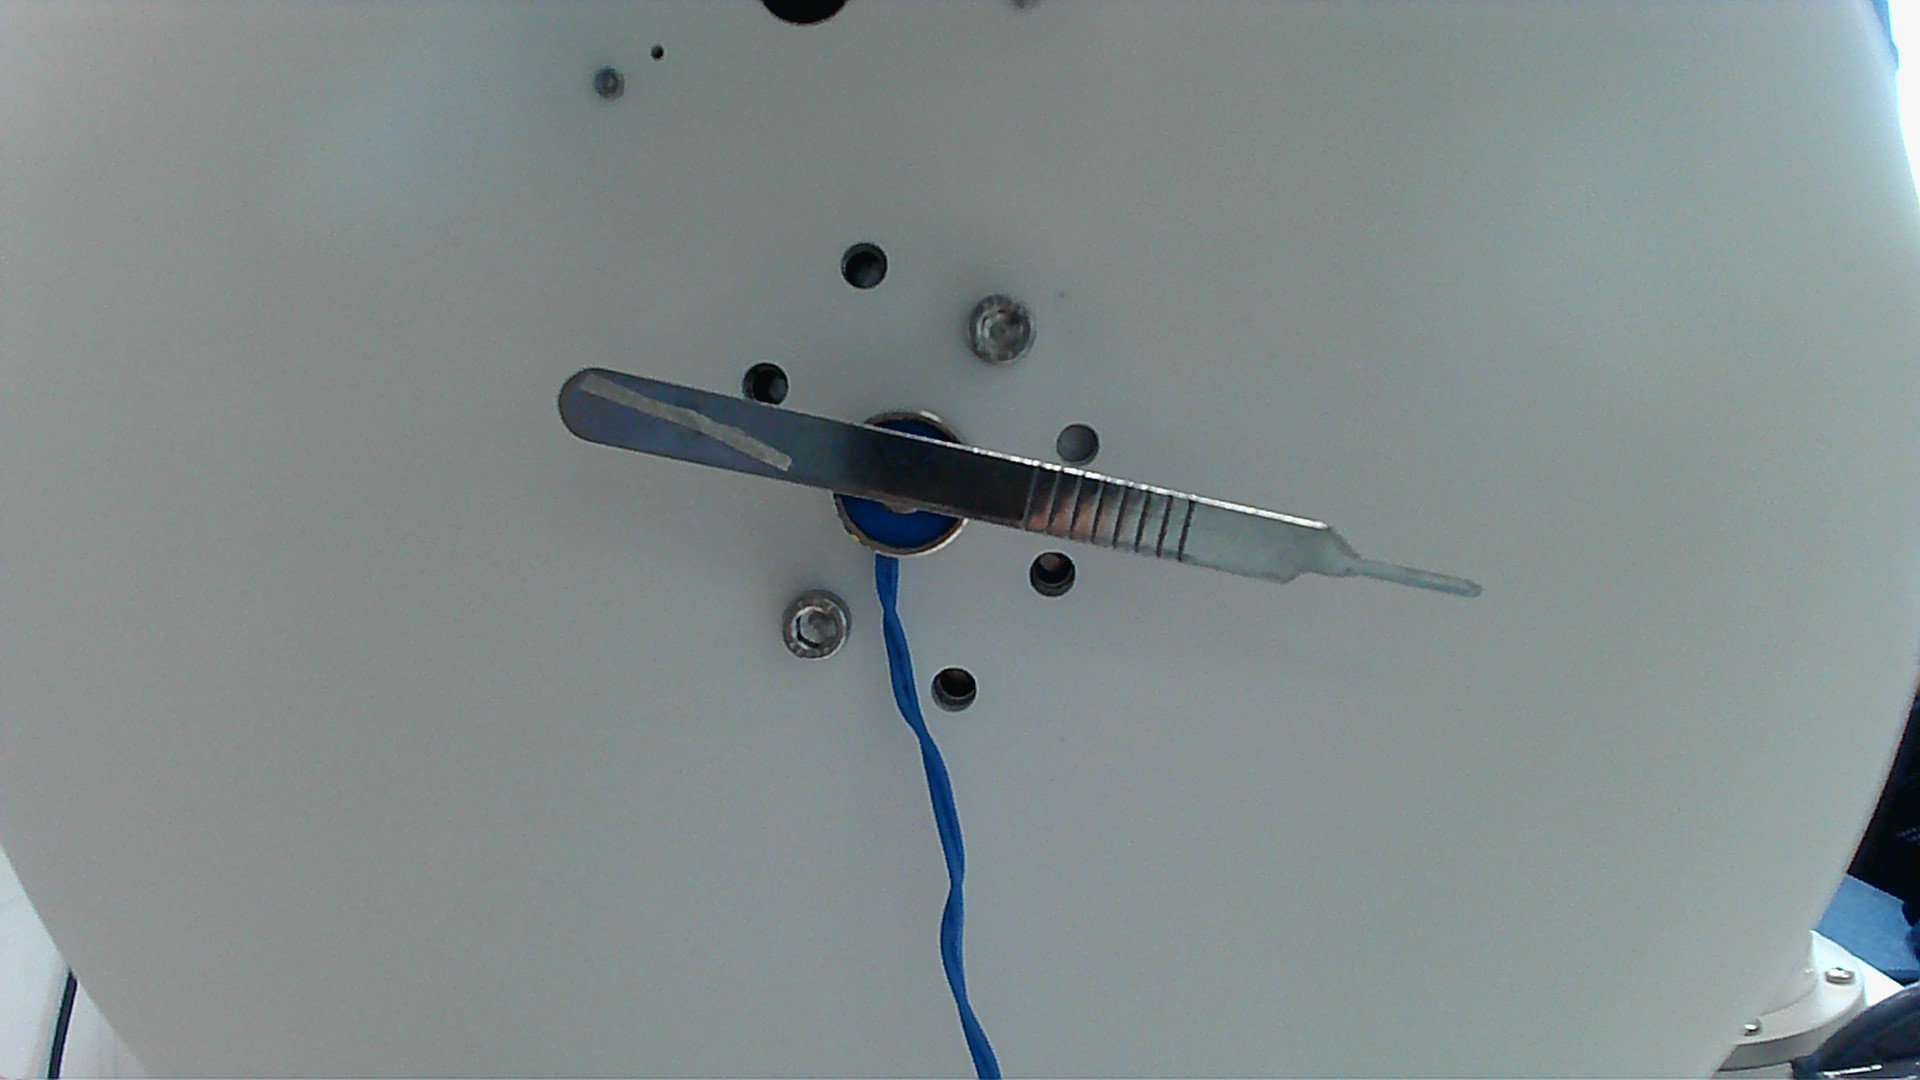Scratches: (572, 369, 798, 477)
